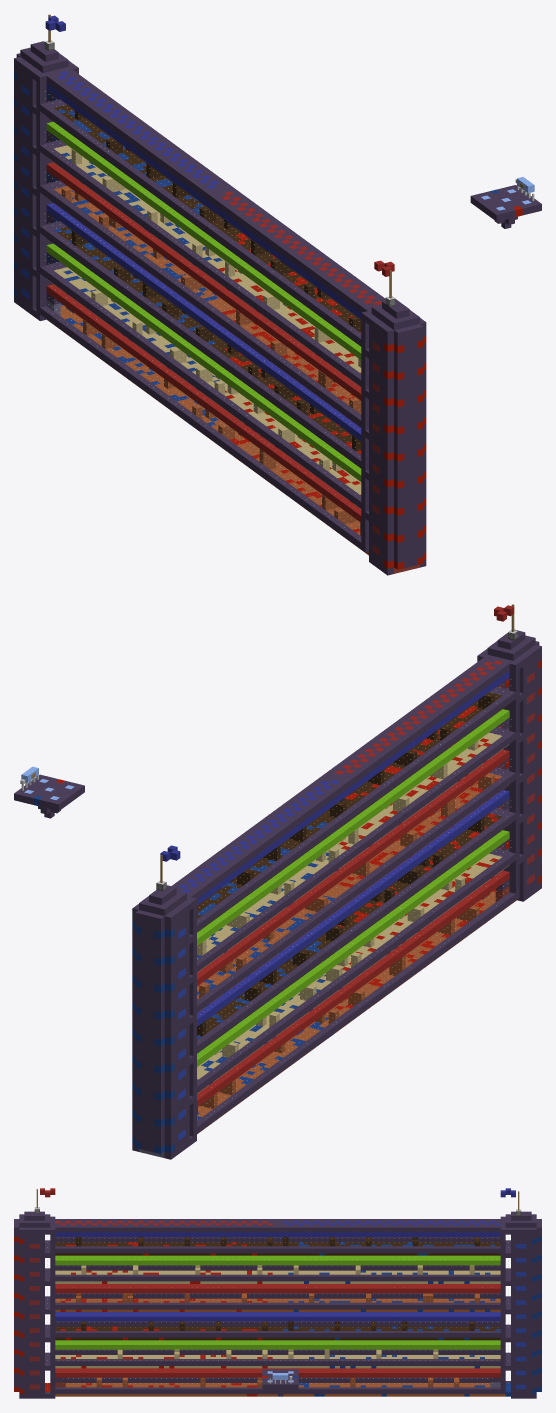
File: minecraft.obj
3 renders of one model, top to bottom at view 1: azimuth 30°, elevation 25°; view 2: azimuth 150°, elevation 25°; view 3: azimuth 270°, elevation 25°, orthographic. The views are drawn at different scales.
Size of the model in its own units: 51 by 43 by 102.
